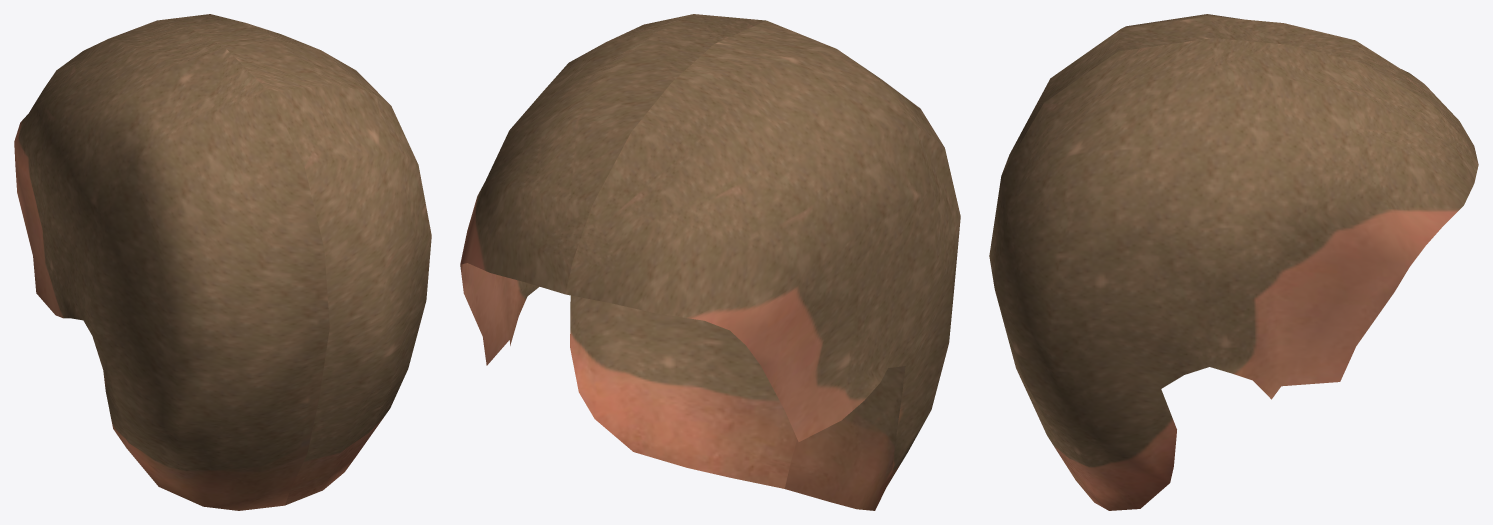
The model's file is Onlyface.fbx.
3 renders of one model, left to right at view 1: azimuth 30°, elevation 25°; view 2: azimuth 150°, elevation 25°; view 3: azimuth 270°, elevation 25°, orthographic. The views are drawn at different scales.
Parts seen in each view (by area): view 1: Object_22.001; view 2: Object_22.001; view 3: Object_22.001.
Boxes of the visible parts, <box> form: Object_22.001: <box>14,14,431,510</box>; Object_22.001: <box>460,14,960,510</box>; Object_22.001: <box>989,14,1478,510</box>.
Bounding box in the file's own units: 17.6 × 22.35 × 22.29.
1 material, 1 textured.
